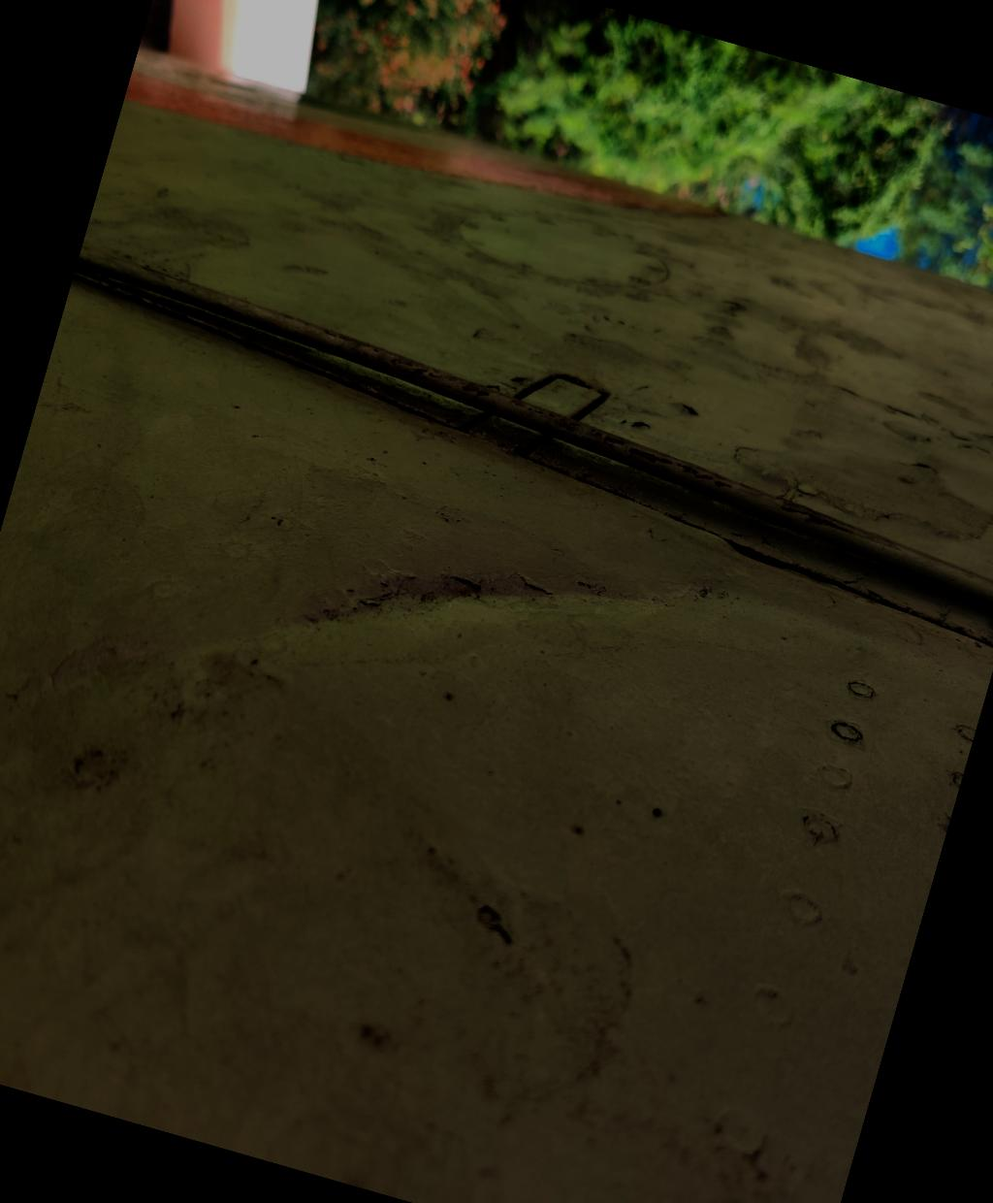dent: (202, 427, 704, 826)
